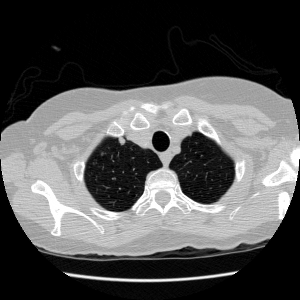nodule: (117, 137, 125, 145)
